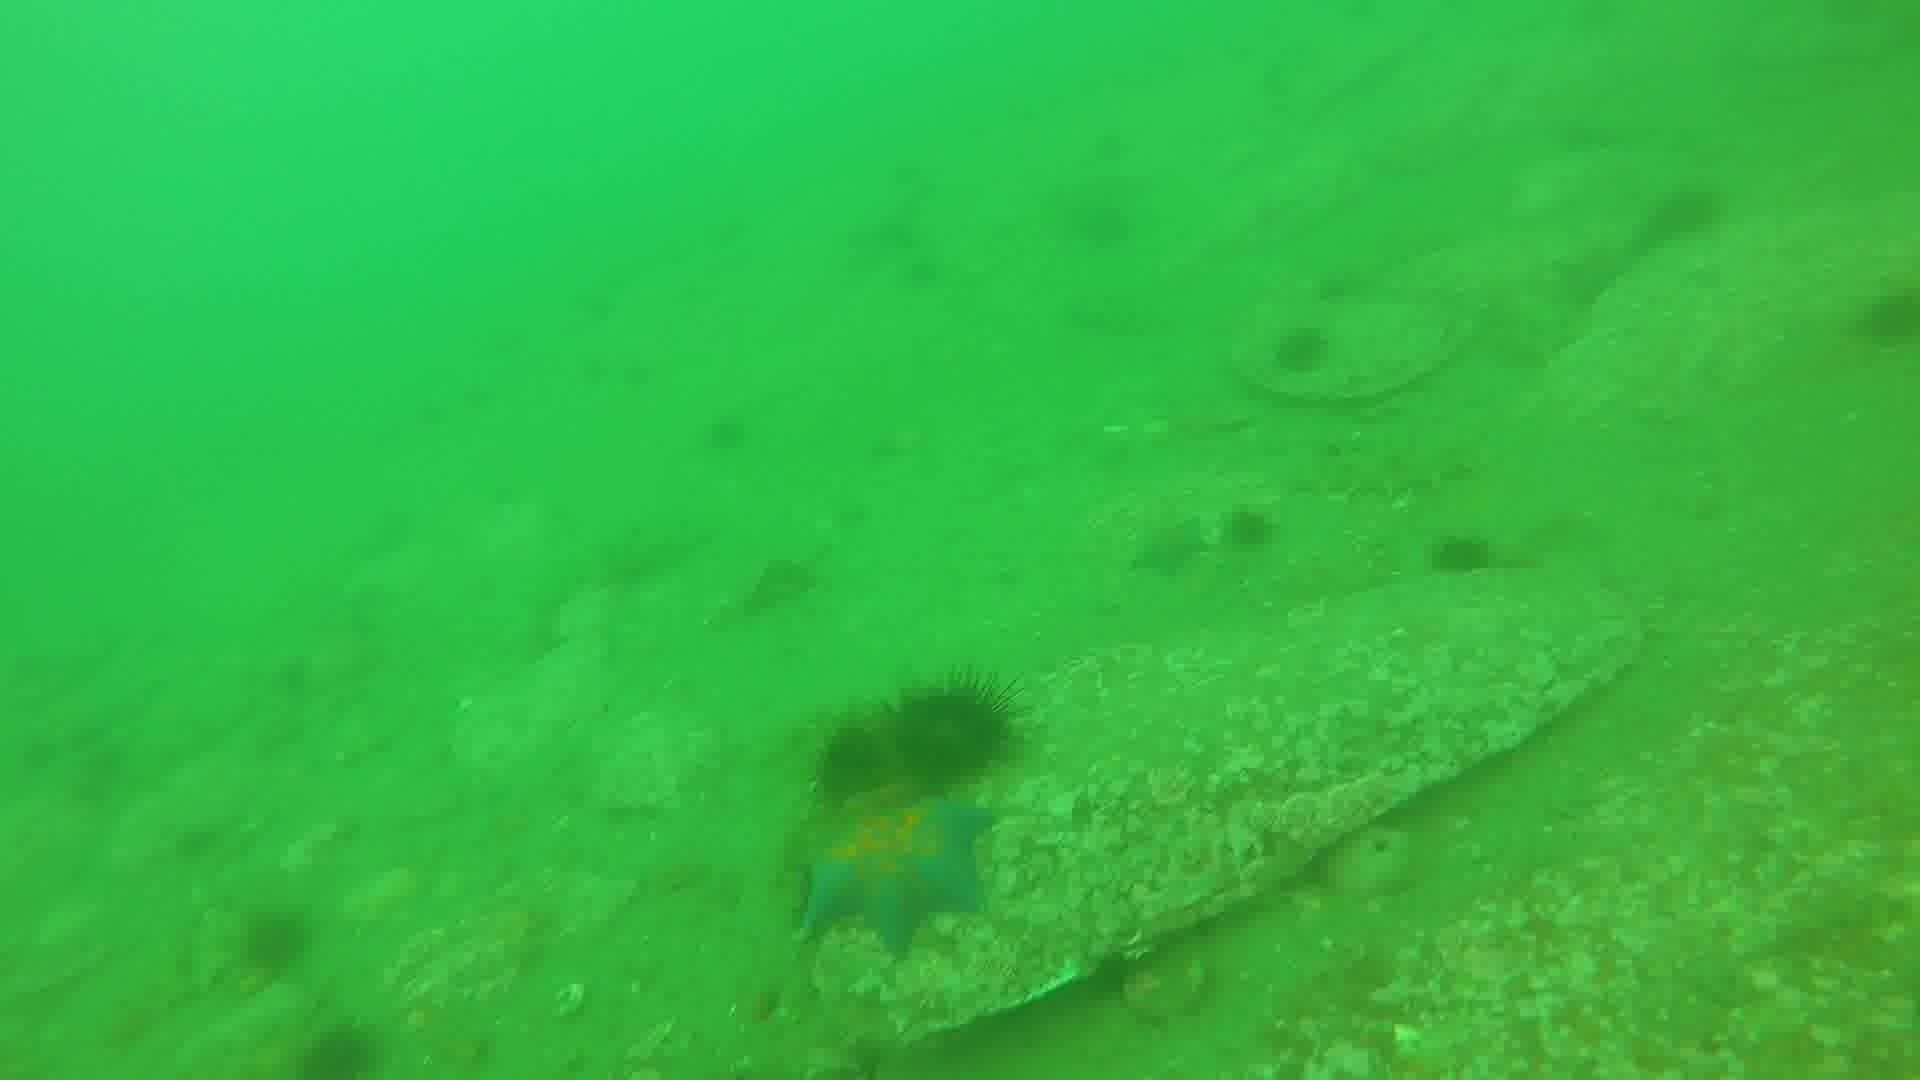echinus: (884, 671, 1025, 789), (808, 720, 894, 807), (1640, 179, 1727, 249), (236, 906, 315, 978), (295, 1021, 384, 1080), (1853, 277, 1920, 353), (1425, 527, 1498, 583), (1269, 320, 1335, 378), (1218, 501, 1282, 556), (700, 407, 756, 458)
holothurian: (1313, 425, 1487, 505)
starfish: (793, 789, 998, 957), (1127, 510, 1211, 582), (1549, 239, 1633, 310)
